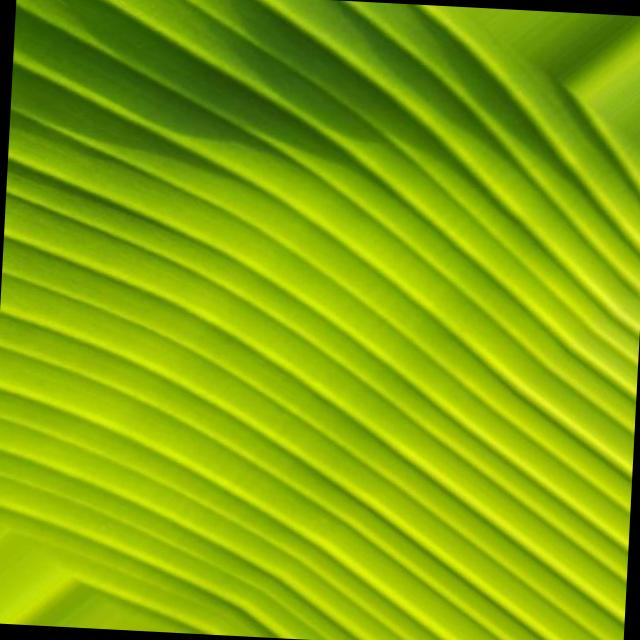Banana_Healthy: (0, 0, 628, 627)
